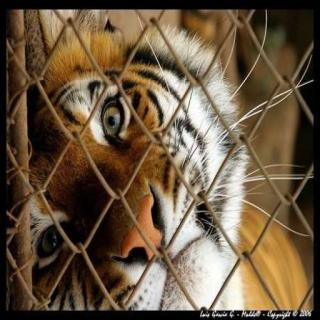Tiger: (26, 20, 251, 308)
